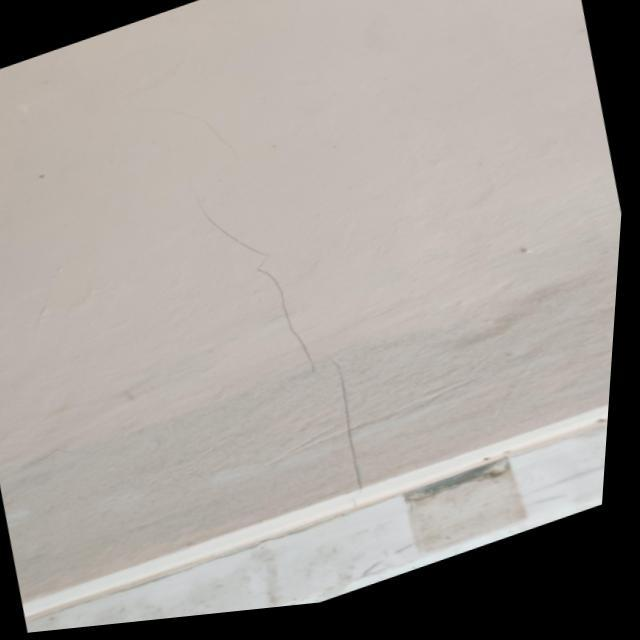Crack: (196, 193, 359, 481)
